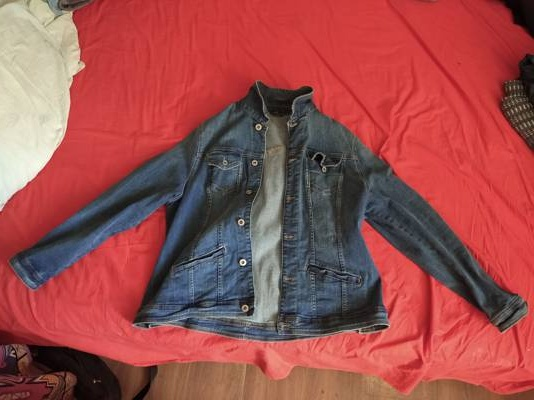Blazer: (1, 82, 519, 356)
